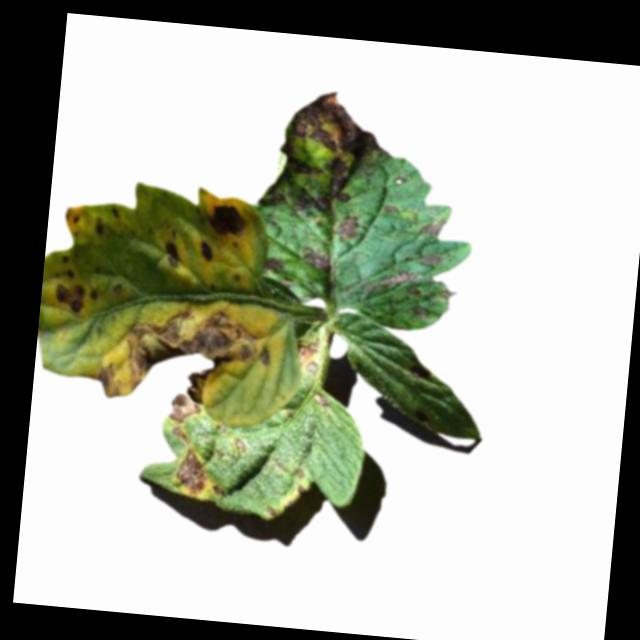Early_blight: (97, 297, 272, 408), (260, 80, 381, 215), (362, 262, 425, 302), (168, 361, 206, 423), (203, 196, 248, 235), (175, 445, 209, 495), (51, 273, 85, 312), (297, 243, 335, 272), (332, 212, 359, 243), (297, 337, 319, 374), (420, 213, 448, 239), (161, 239, 181, 268), (196, 235, 215, 264), (169, 422, 189, 443), (417, 249, 441, 266), (379, 199, 401, 216), (310, 392, 333, 406), (90, 216, 106, 236), (233, 437, 248, 453), (292, 463, 306, 480), (264, 501, 278, 517)
